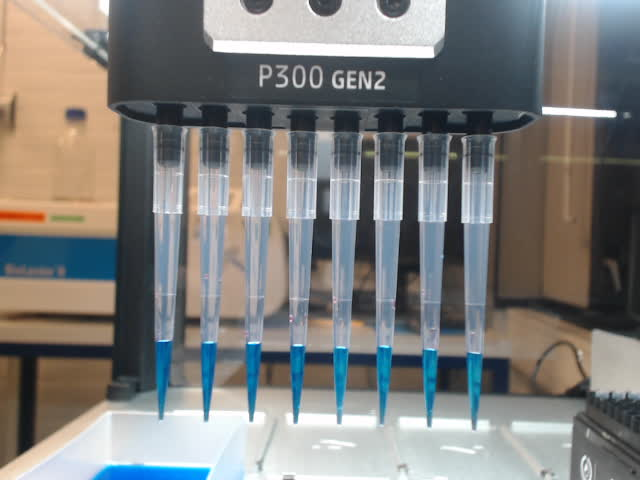Liquid: (463, 347, 491, 435), (420, 342, 445, 431), (152, 335, 177, 422), (373, 342, 397, 430), (243, 338, 265, 426), (287, 340, 309, 427), (331, 343, 353, 427), (199, 337, 220, 424)
Tip: (148, 122, 190, 423), (459, 132, 500, 435), (369, 130, 410, 432), (414, 132, 455, 433), (237, 125, 277, 427), (283, 128, 322, 428), (327, 132, 365, 428), (197, 126, 224, 424)
